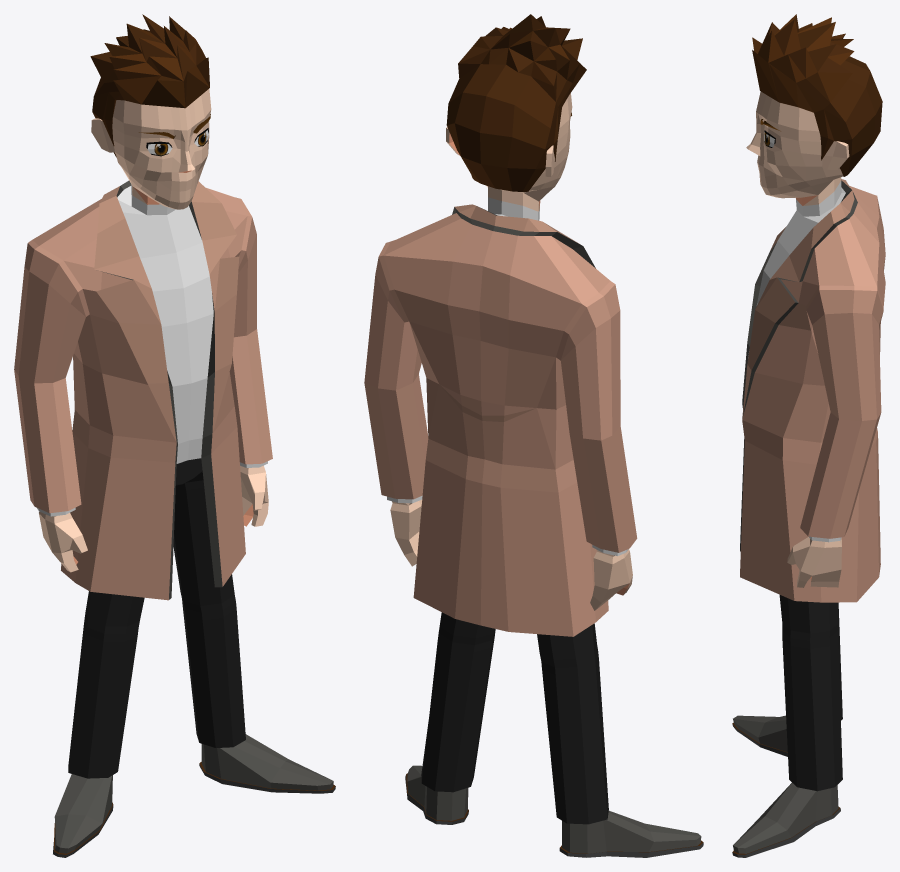
File: human_11.obj
3 renders of one model, left to right at view 1: azimuth 30°, elevation 25°; view 2: azimuth 150°, elevation 25°; view 3: azimuth 270°, elevation 25°, orthographic. The views are drawn at different scales.
Visible parts, largest first — view 1: Cube, Cylinder.001, HAIR; view 2: Cube, HAIR, Cylinder.001; view 3: Cube, HAIR, Cylinder.001.
Part boxes in pixels (left/top/right/bottom): Cube: left=14, top=180, right=335, bottom=857; Cylinder.001: left=91, top=89, right=211, bottom=209; HAIR: left=90, top=14, right=209, bottom=157; Cube: left=364, top=186, right=703, bottom=857; HAIR: left=446, top=14, right=586, bottom=191; Cylinder.001: left=446, top=93, right=572, bottom=201; Cube: left=732, top=177, right=885, bottom=857; HAIR: left=752, top=14, right=882, bottom=176; Cylinder.001: left=746, top=91, right=849, bottom=198.
Size of the model in its own units: 1.68 by 4.47 by 0.8072.
1 material, 1 textured.
